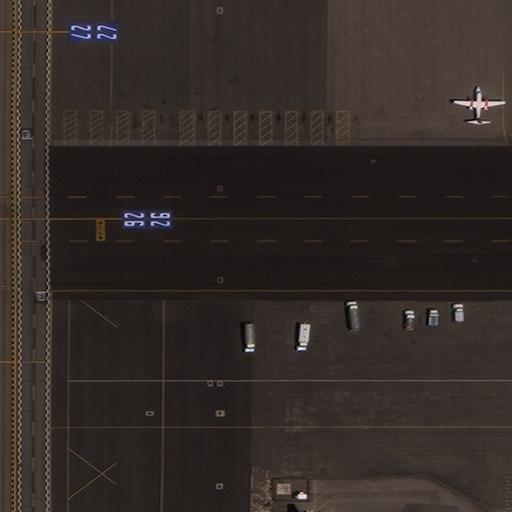Small Civil Transport: (453, 86, 504, 125)
